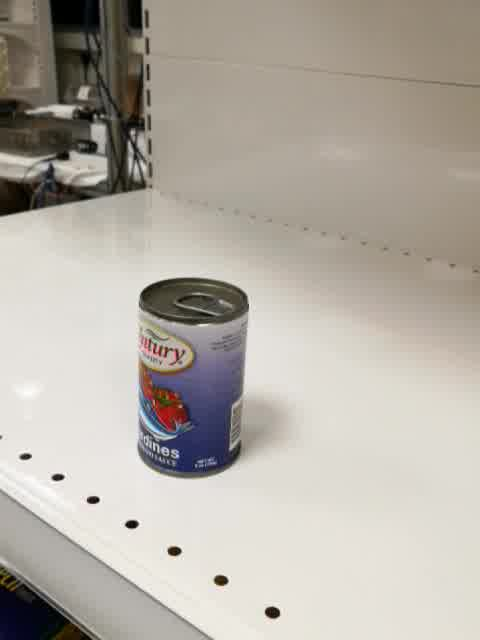sardine: (136, 278, 249, 479)
